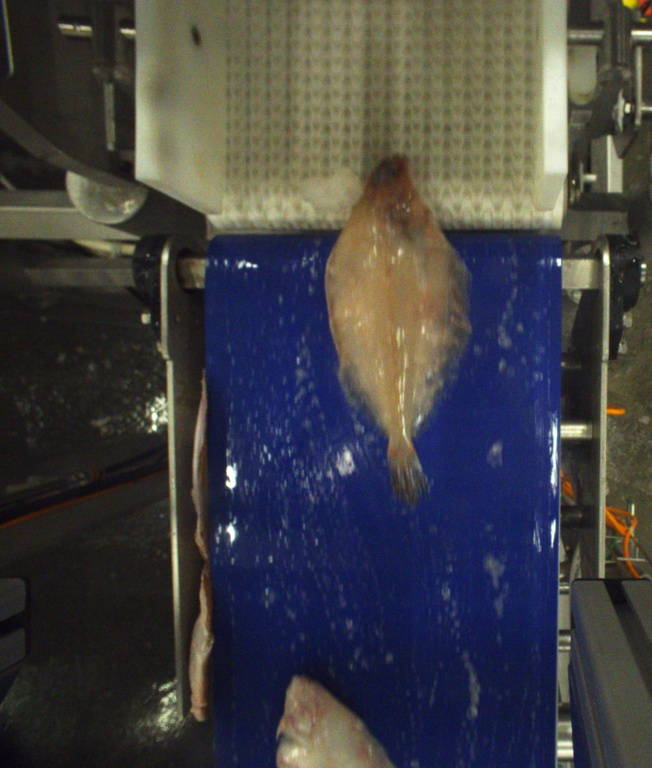WIT: (275, 674, 398, 768)
